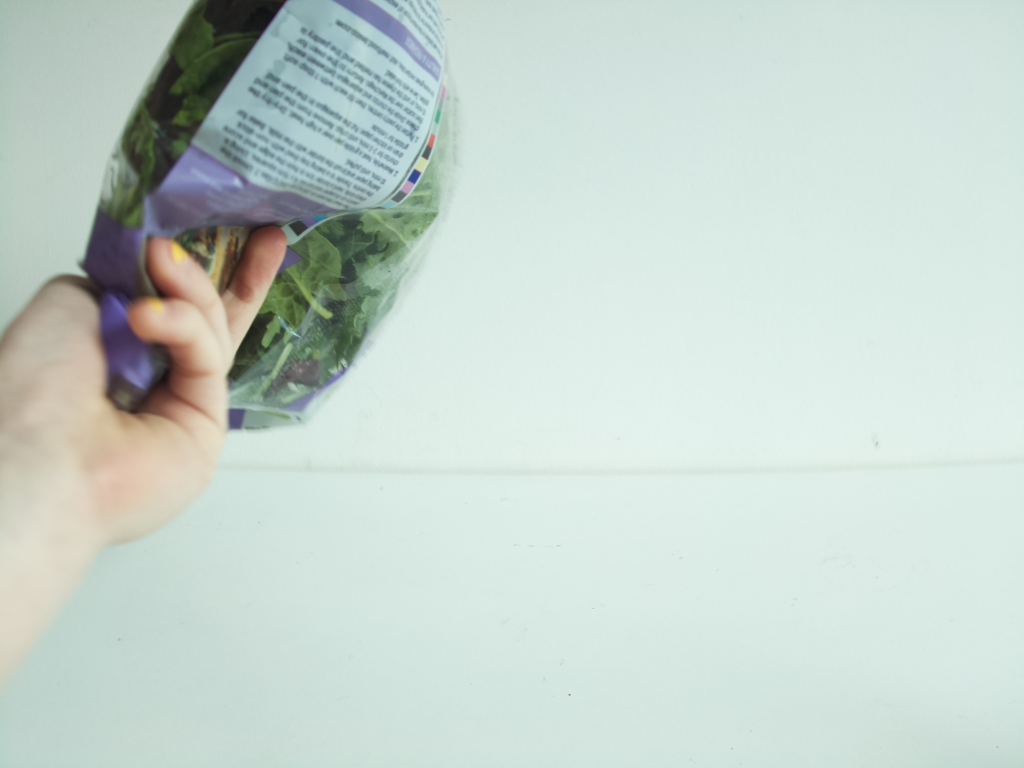salad: (91, 1, 449, 419)
